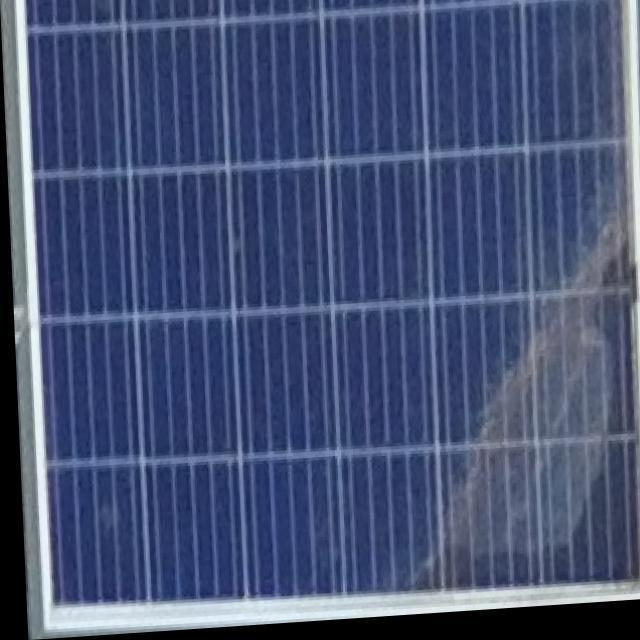Surface Contaminant: (362, 9, 632, 607)
